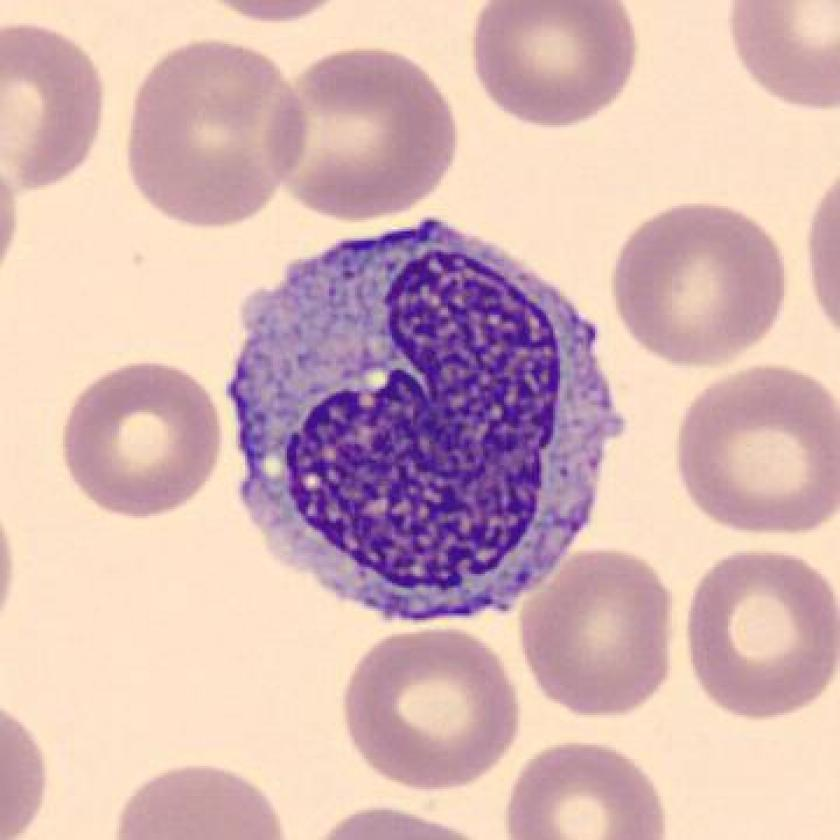monocyte: (204, 191, 645, 640)
